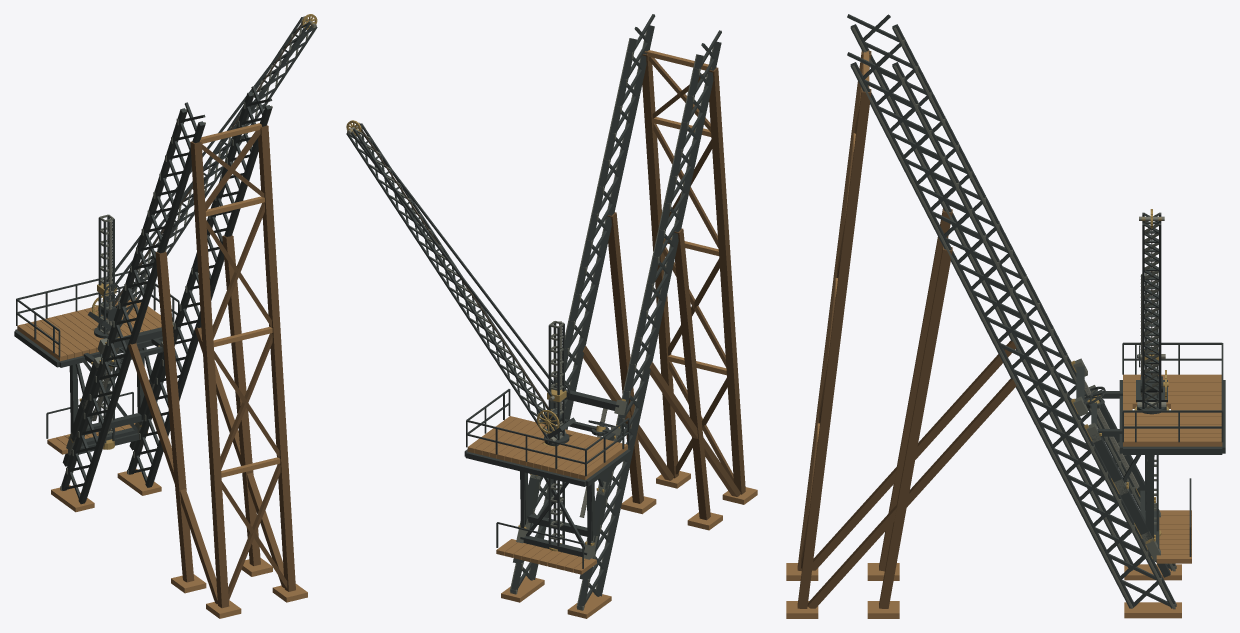
The model's file is crane.glb.
The picture shows the model from 3 angles, left to right: view 1: azimuth 30°, elevation 25°; view 2: azimuth 150°, elevation 25°; view 3: azimuth 270°, elevation 25°; orthographic projection. The views are drawn at different scales.
Parts seen in each view (by area): view 1: guyenet-guides-timber-dark.004, guyenet-guides-iron.004, guyenet-carriage-iron.004, guyenet-guides-timber.004, guyenet-carriage-timber.004, guyenet-jib-iron.004, guyenet-guides-edge.004, guyenet-rotor-iron.004, guyenet-jib-edge.004, guyenet-tie-iron.008, guyenet-safety-base-iron.004, guyenet-rotor-edge.004 (+2 smaller); view 2: guyenet-guides-timber-dark.004, guyenet-guides-iron.004, guyenet-carriage-iron.004, guyenet-jib-iron.004, guyenet-carriage-timber.004, guyenet-guides-timber.004, guyenet-guides-edge.004, guyenet-rotor-iron.004, guyenet-safety-base-timber.004, guyenet-tie-iron.009, guyenet-safety-base-iron.004, guyenet-tie-iron.008 (+3 smaller); view 3: guyenet-guides-iron.004, guyenet-guides-timber-dark.004, guyenet-guides-edge.004, guyenet-carriage-iron.004, guyenet-carriage-timber.004, guyenet-guides-timber.004, guyenet-jib-iron.004, guyenet-safety-base-timber.004, guyenet-jib-edge.004, guyenet-rotor-iron.004.
Part boxes in pixels (left/top/right/bottom): guyenet-guides-timber-dark.004: left=128, top=125, right=295, bottom=608; guyenet-guides-iron.004: left=61, top=86, right=272, bottom=504; guyenet-carriage-iron.004: left=14, top=270, right=180, bottom=454; guyenet-guides-timber.004: left=51, top=123, right=307, bottom=618; guyenet-carriage-timber.004: left=17, top=297, right=161, bottom=361; guyenet-jib-iron.004: left=88, top=17, right=317, bottom=332; guyenet-guides-edge.004: left=60, top=93, right=272, bottom=501; guyenet-rotor-iron.004: left=94, top=216, right=118, bottom=446; guyenet-jib-edge.004: left=106, top=17, right=308, bottom=329; guyenet-tie-iron.008: left=112, top=25, right=312, bottom=290; guyenet-safety-base-iron.004: left=46, top=392, right=136, bottom=466; guyenet-rotor-edge.004: left=99, top=214, right=114, bottom=433; guyenet-guides-timber-dark.004: left=583, top=54, right=745, bottom=520; guyenet-guides-iron.004: left=510, top=14, right=721, bottom=608; guyenet-carriage-iron.004: left=464, top=389, right=630, bottom=550; guyenet-jib-iron.004: left=346, top=123, right=575, bottom=438; guyenet-carriage-timber.004: left=467, top=416, right=627, bottom=480; guyenet-guides-timber.004: left=501, top=50, right=757, bottom=618; guyenet-guides-edge.004: left=510, top=30, right=713, bottom=610; guyenet-rotor-iron.004: left=544, top=323, right=569, bottom=546; guyenet-safety-base-timber.004: left=496, top=539, right=596, bottom=574; guyenet-tie-iron.009: left=351, top=132, right=552, bottom=396; guyenet-safety-base-iron.004: left=496, top=522, right=589, bottom=580; guyenet-tie-iron.008: left=358, top=128, right=557, bottom=388; guyenet-guides-iron.004: left=847, top=14, right=1176, bottom=608; guyenet-guides-timber-dark.004: left=797, top=50, right=1018, bottom=608; guyenet-guides-edge.004: left=852, top=27, right=1175, bottom=609; guyenet-carriage-iron.004: left=1084, top=342, right=1225, bottom=555; guyenet-carriage-timber.004: left=1123, top=374, right=1222, bottom=446; guyenet-guides-timber.004: left=786, top=50, right=1181, bottom=618; guyenet-jib-iron.004: left=1136, top=212, right=1167, bottom=408; guyenet-safety-base-timber.004: left=1156, top=510, right=1191, bottom=563; guyenet-jib-edge.004: left=1144, top=212, right=1160, bottom=408; guyenet-rotor-iron.004: left=1137, top=274, right=1166, bottom=531.
Bounding box in the file's own units: 11.4 × 19.29 × 13.7.
